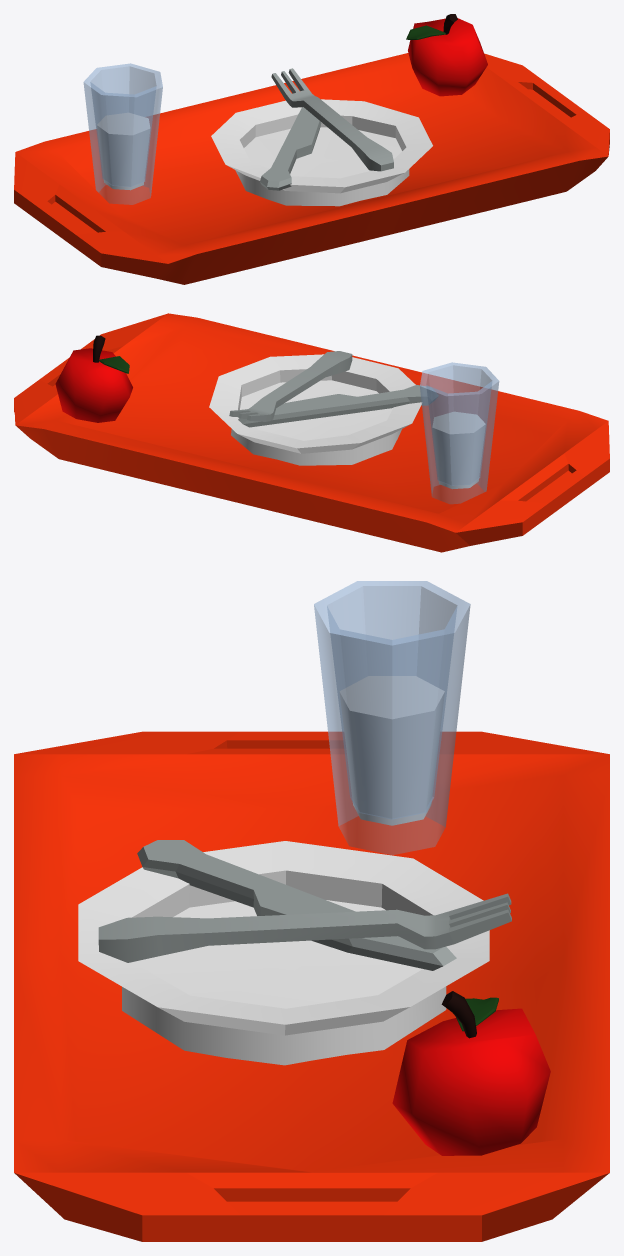
The model's file is tray.FBX.
3 views of the same model, one above another, from view 1: azimuth 30°, elevation 25°; view 2: azimuth 150°, elevation 25°; view 3: azimuth 270°, elevation 25° (orthographic). The views are drawn at different scales.
Visible parts, largest first — view 1: Box001, Cylinder003, Cylinder001, Sphere001, Cylinder002, Box002, Line001; view 2: Box001, Cylinder003, Cylinder001, Sphere001, Cylinder002, Line001, Box002; view 3: Box001, Cylinder003, Cylinder001, Sphere001, Box002, Cylinder002, Line001.
Part boxes in pixels (bbox=[...]): Box001: bbox=[14, 53, 609, 284]; Cylinder003: bbox=[211, 99, 432, 206]; Cylinder001: bbox=[83, 63, 162, 204]; Sphere001: bbox=[408, 18, 487, 96]; Cylinder002: bbox=[97, 113, 149, 190]; Box002: bbox=[271, 68, 393, 171]; Line001: bbox=[260, 107, 321, 190]; Box001: bbox=[14, 313, 609, 552]; Cylinder003: bbox=[209, 354, 422, 465]; Cylinder001: bbox=[420, 362, 499, 503]; Sphere001: bbox=[55, 348, 132, 422]; Cylinder002: bbox=[432, 412, 485, 488]; Line001: bbox=[238, 385, 428, 427]; Box002: bbox=[229, 351, 352, 421]; Box001: bbox=[14, 731, 609, 1241]; Cylinder003: bbox=[78, 841, 489, 1065]; Cylinder001: bbox=[314, 581, 470, 854]; Sphere001: bbox=[392, 1008, 550, 1155]; Box002: bbox=[98, 893, 511, 962]; Cylinder002: bbox=[340, 676, 444, 825]; Line001: bbox=[137, 840, 456, 970].
Size of the model in its own units: 59 by 15.16 by 30.72.
